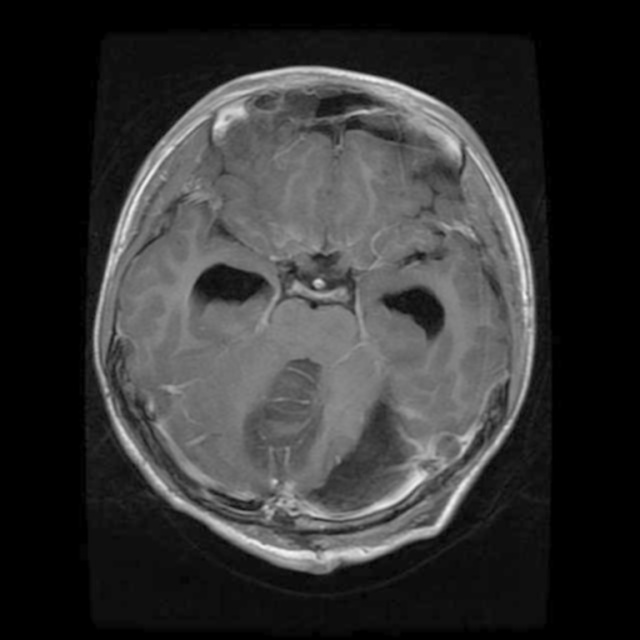pituitary tumor: (242, 362, 322, 458)
